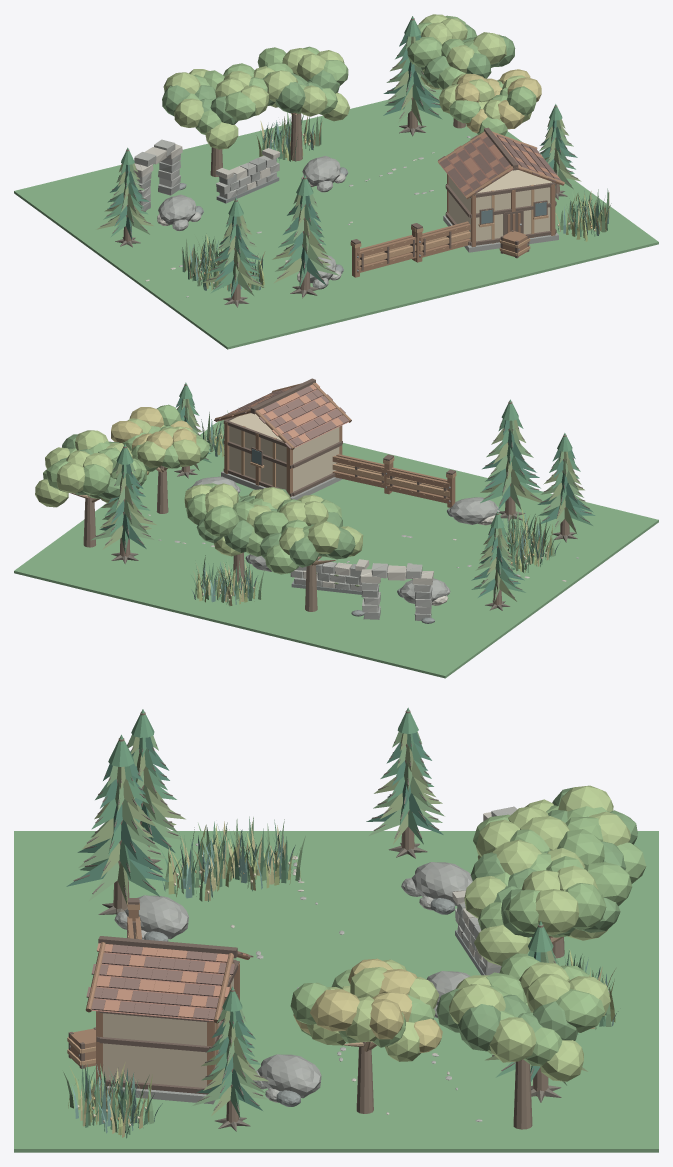
Rendered from nebeljagd_walddorf_demo.glb.
3 views of the same model, one above another, from view 1: azimuth 30°, elevation 25°; view 2: azimuth 150°, elevation 25°; view 3: azimuth 270°, elevation 25° (orthographic). The views are drawn at different scales.
Parts seen in each view (by area): view 1: world, demo_house_timbersmall_39, demo_oak_green_105, demo_oak_green_110, demo_house_timbersmall_47, demo_oak_green_115, demo_oak_autumn_118, demo_house_timbersmall_40, demo_oak_green_103, demo_oak_autumn_120, demo_oak_green_113, demo_house_timbersmall_41 (+34 smaller); view 2: world, demo_house_timbersmall_39, demo_oak_green_115, demo_oak_green_105, demo_house_timbersmall_47, demo_oak_green_108, demo_oak_green_110, demo_oak_green_103, demo_house_timbersmall_40, demo_oak_autumn_118, demo_oak_green_113, demo_oak_green_104 (+40 smaller); view 3: world, demo_oak_green_110, demo_oak_green_115, demo_house_timbersmall_39, demo_house_timbersmall_47, demo_oak_autumn_118, demo_oak_green_108, demo_oak_green_105, demo_oak_green_113, demo_oak_autumn_119, demo_oak_green_114, demo_oak_green_103 (+40 smaller).
Part boxes in pixels (x1=…): world: x1=14, y1=89, x2=658, y2=349; demo_house_timbersmall_39: x1=448, y1=170, x2=551, y2=241; demo_oak_green_105: x1=163, y1=69, x2=269, y2=149; demo_oak_green_110: x1=253, y1=48, x2=349, y2=121; demo_house_timbersmall_47: x1=438, y1=135, x2=561, y2=195; demo_oak_green_115: x1=419, y1=14, x2=506, y2=89; demo_oak_autumn_118: x1=455, y1=69, x2=541, y2=133; demo_house_timbersmall_40: x1=445, y1=127, x2=556, y2=246; demo_oak_green_103: x1=186, y1=63, x2=267, y2=134; demo_oak_autumn_120: x1=449, y1=79, x2=536, y2=135; demo_oak_green_113: x1=407, y1=15, x2=493, y2=90; demo_house_timbersmall_41: x1=437, y1=131, x2=564, y2=247; world: x1=14, y1=420, x2=658, y2=678; demo_house_timbersmall_39: x1=229, y1=413, x2=339, y2=491; demo_oak_green_115: x1=35, y1=430, x2=132, y2=507; demo_oak_green_105: x1=279, y1=494, x2=363, y2=556; demo_house_timbersmall_47: x1=214, y1=386, x2=348, y2=449; demo_oak_green_108: x1=186, y1=483, x2=275, y2=556; demo_oak_green_110: x1=184, y1=483, x2=290, y2=556; demo_oak_green_103: x1=253, y1=499, x2=344, y2=574; demo_house_timbersmall_40: x1=223, y1=378, x2=342, y2=496; demo_oak_autumn_118: x1=111, y1=407, x2=196, y2=474; demo_oak_green_113: x1=43, y1=441, x2=146, y2=498; demo_oak_green_104: x1=259, y1=512, x2=355, y2=567; world: x1=14, y1=831, x2=658, y2=1152; demo_oak_green_110: x1=464, y1=839, x2=608, y2=965; demo_oak_green_115: x1=449, y1=962, x2=610, y2=1081; demo_house_timbersmall_39: x1=103, y1=978, x2=233, y2=1087; demo_house_timbersmall_47: x1=86, y1=944, x2=253, y2=1020; demo_oak_autumn_118: x1=293, y1=958, x2=442, y2=1052; demo_oak_green_108: x1=478, y1=851, x2=632, y2=937; demo_oak_green_105: x1=476, y1=785, x2=630, y2=859; demo_oak_green_113: x1=459, y1=953, x2=604, y2=1066; demo_oak_autumn_119: x1=306, y1=959, x2=439, y2=1061; demo_oak_green_114: x1=436, y1=988, x2=577, y2=1051; demo_oak_green_103: x1=473, y1=805, x2=646, y2=883.
Size of the model in its own units: 21.71 by 5.66 by 18.
